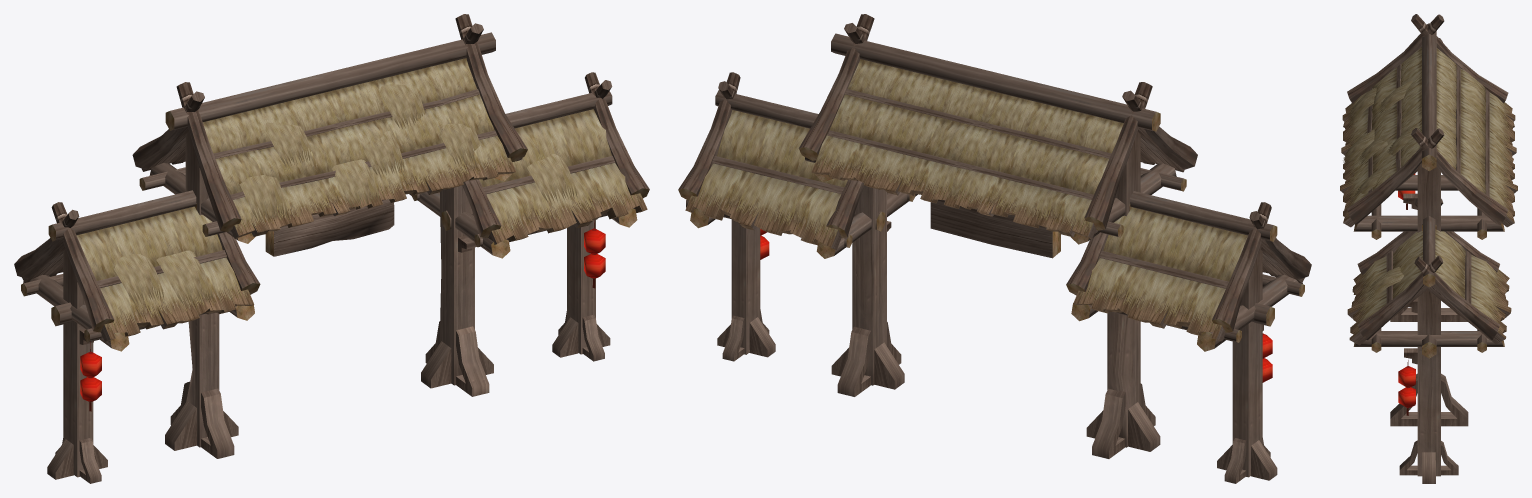
The model's file is handan_field_b_r03.fbx.
The picture shows the model from 3 angles, left to right: view 1: azimuth 30°, elevation 25°; view 2: azimuth 150°, elevation 25°; view 3: azimuth 270°, elevation 25°; orthographic projection. The views are drawn at different scales.
Parts seen in each view (by area): view 1: handan_field_b_r03; view 2: handan_field_b_r03; view 3: handan_field_b_r03.
Part boxes in pixels (x1,y1,x2,y2): handan_field_b_r03: (14,14,649,483); handan_field_b_r03: (678,14,1311,483); handan_field_b_r03: (1340,14,1517,483).
Bounding box in the file's own units: 1668 × 1025 × 551.
